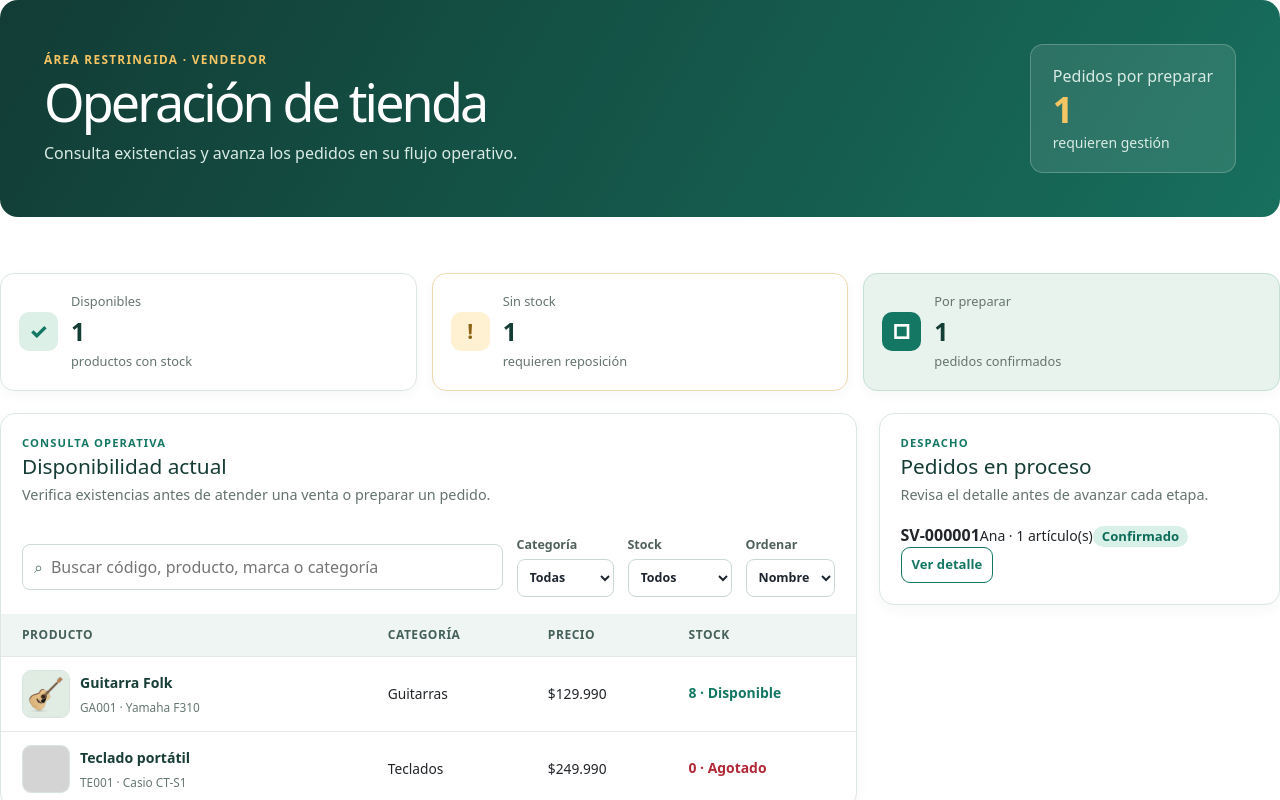
Test case: Vendedor › muestra la operación y permite filtrar la disponibilidad
Check: the heading "Operación de tienda" is shown, box [44, 76, 517, 128]
Check: the text "Pedidos por preparar" is shown once, box [1053, 64, 1213, 88]
In the field named "Buscar disponibilidad": (271, 566) [51, 544, 490, 588], type "teclado"
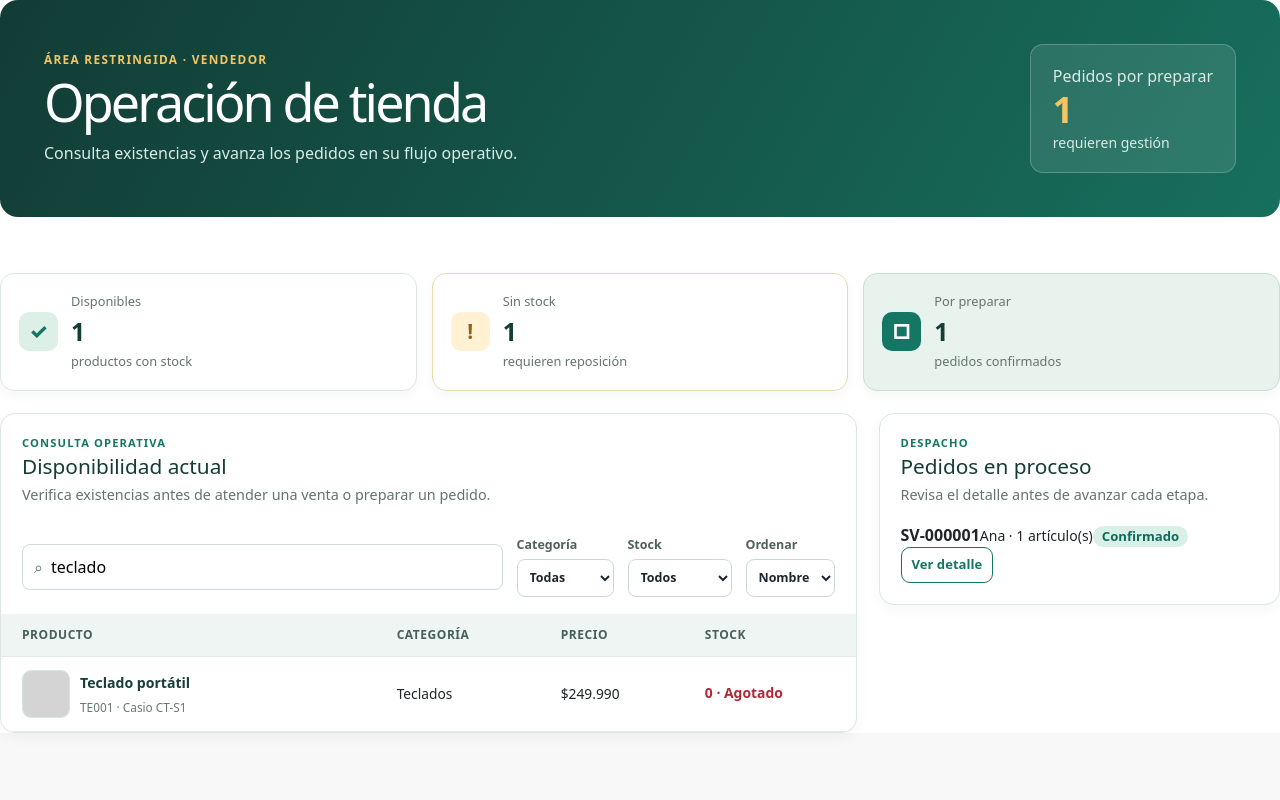
Check: the text "Teclado portátil" is shown once, box [80, 672, 190, 694]
Check: the text "Guitarra Folk" is gone
